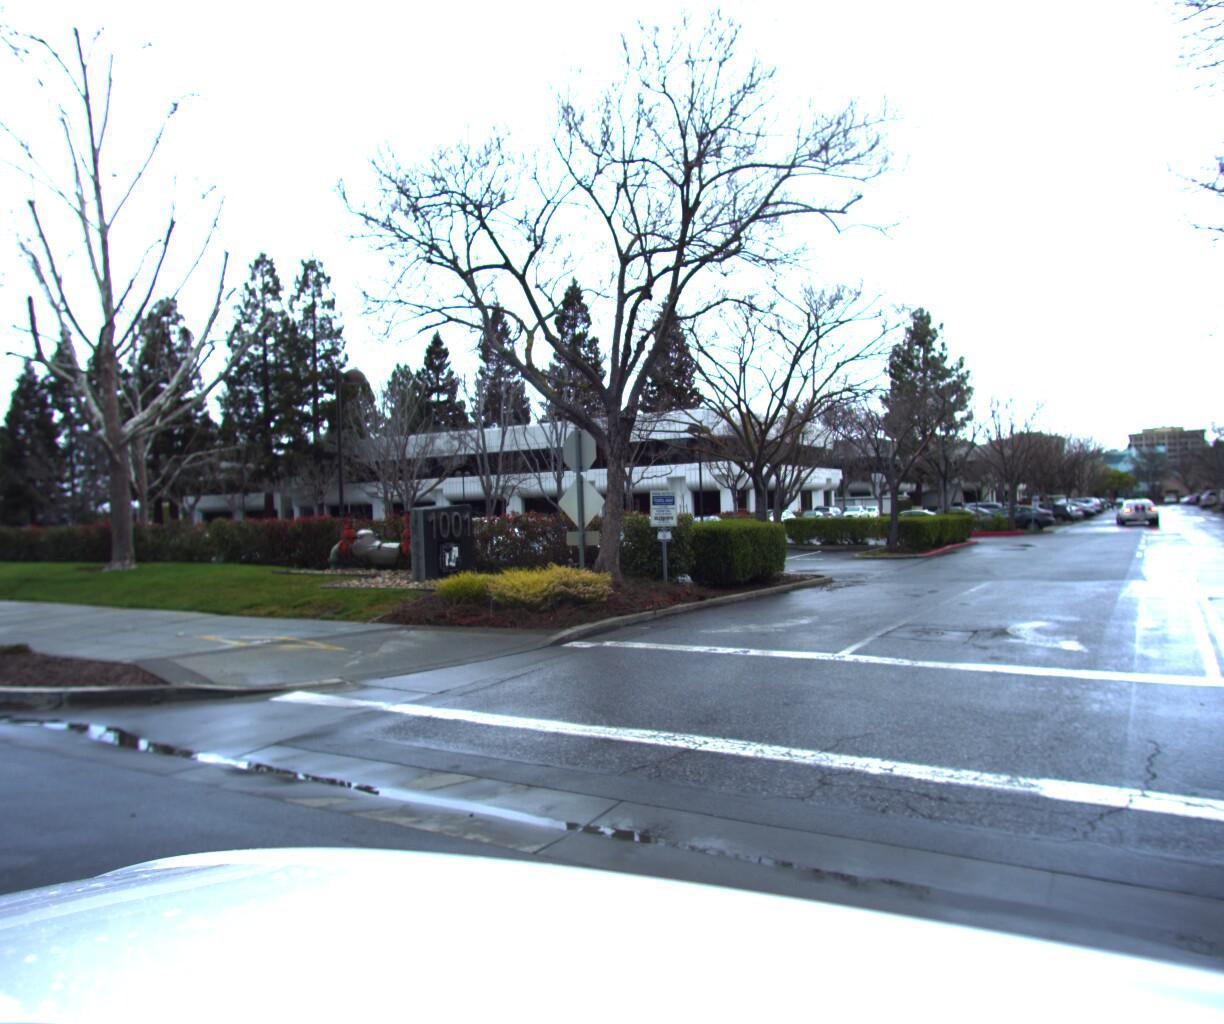car: (963, 502, 1058, 533), (996, 502, 1075, 527), (1009, 501, 1083, 526), (1119, 498, 1160, 527)
